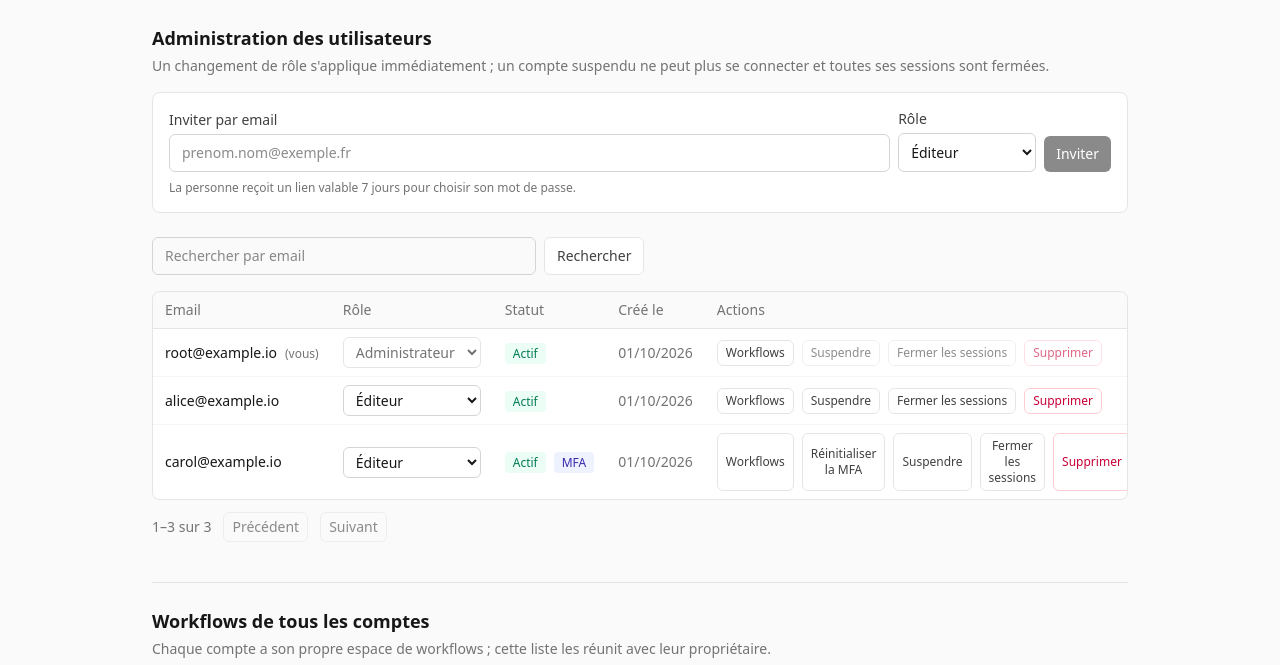
Scenario: AdminPanel — double authentification (#245) › signale les comptes protégés et réinitialise après confirmation
Check: the row that starts with "alice@example.io" is shown, box [153, 376, 1128, 424]
Check: the text "MFA" is shown, box [554, 452, 594, 473]
Click the button with aria-label "Réinitialiser la double authentification de carol@example.io" at (844, 462), box [802, 433, 885, 491]
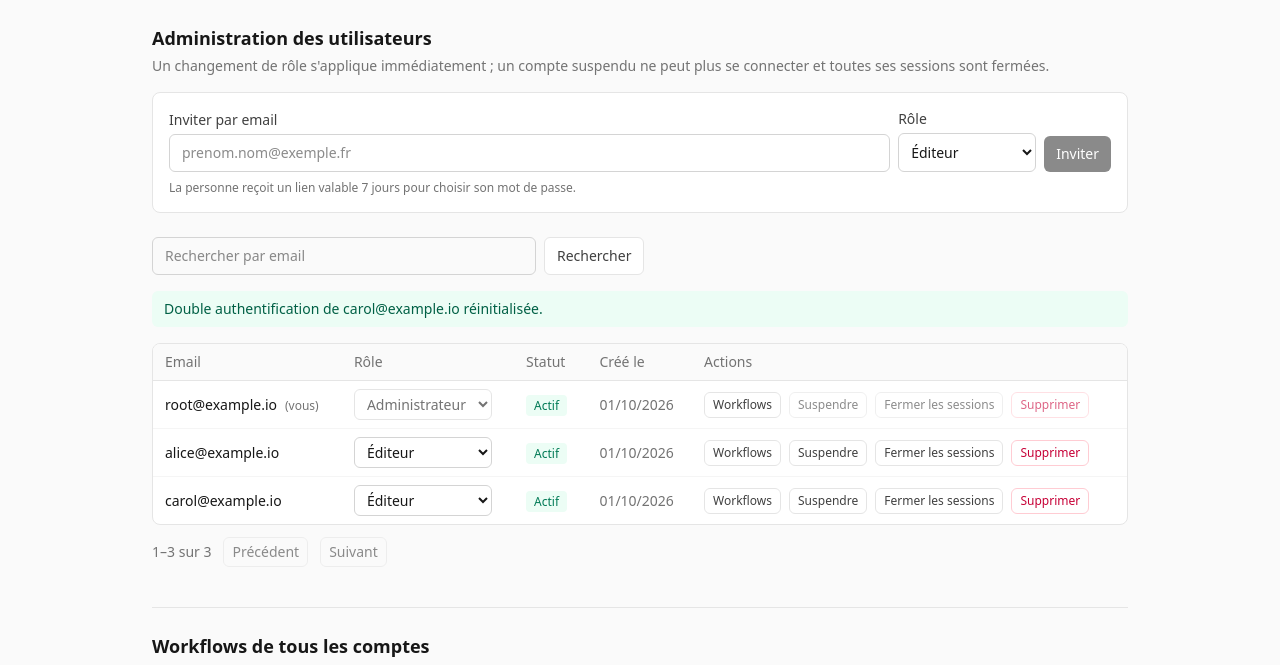
Check: the text "Double authentification de carol@example.io réinitialisée." is shown, box [152, 291, 1128, 327]
Check: the text "MFA" is gone
